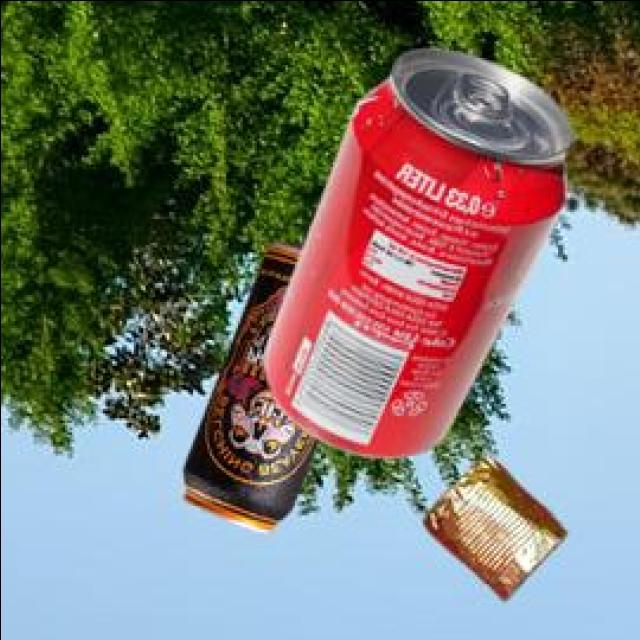logam: (262, 51, 568, 459), (179, 243, 314, 537), (421, 461, 561, 601)
